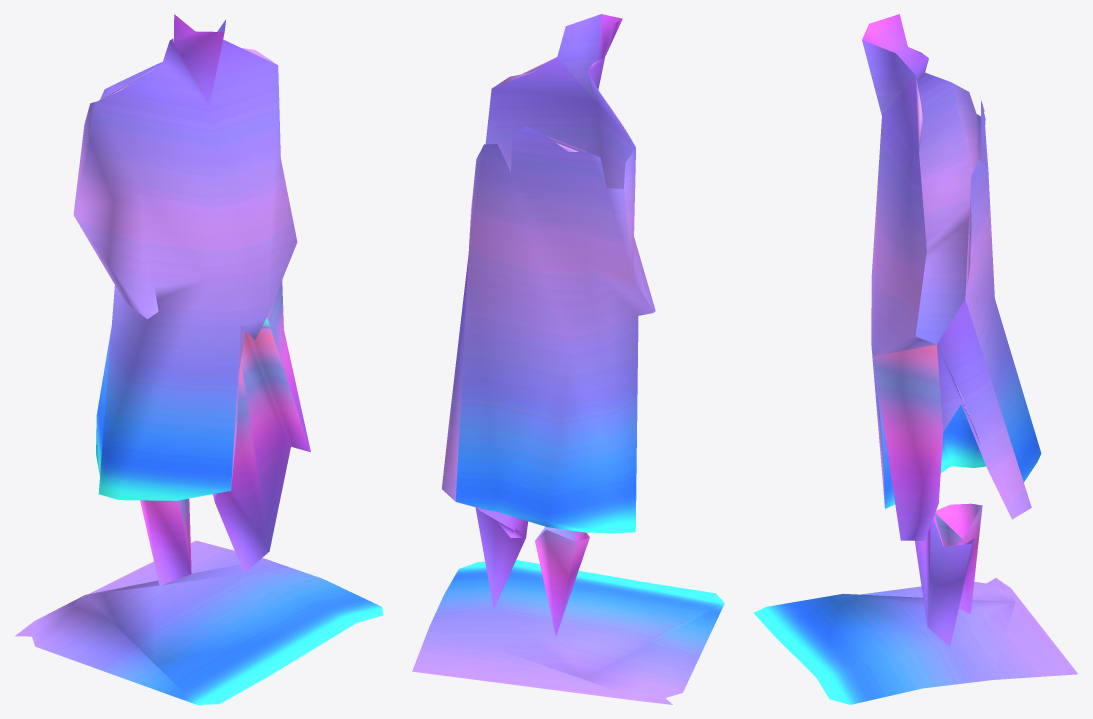
Rendered from Shiny.glb.
3 views of the same model, side by side, from view 1: azimuth 30°, elevation 25°; view 2: azimuth 150°, elevation 25°; view 3: azimuth 270°, elevation 25° (orthographic). The views are drawn at different scales.
Parts seen in each view (by area): view 1: unnamed; view 2: unnamed; view 3: unnamed.
Boxes of the visible parts, left/top/right/bottom form: unnamed: left=15, top=14, right=383, bottom=704; unnamed: left=412, top=14, right=724, bottom=704; unnamed: left=754, top=14, right=1077, bottom=704.
Bounding box in the file's own units: 14.78 × 30.43 × 14.54.
Materials: 1 (1 with a texture image).
